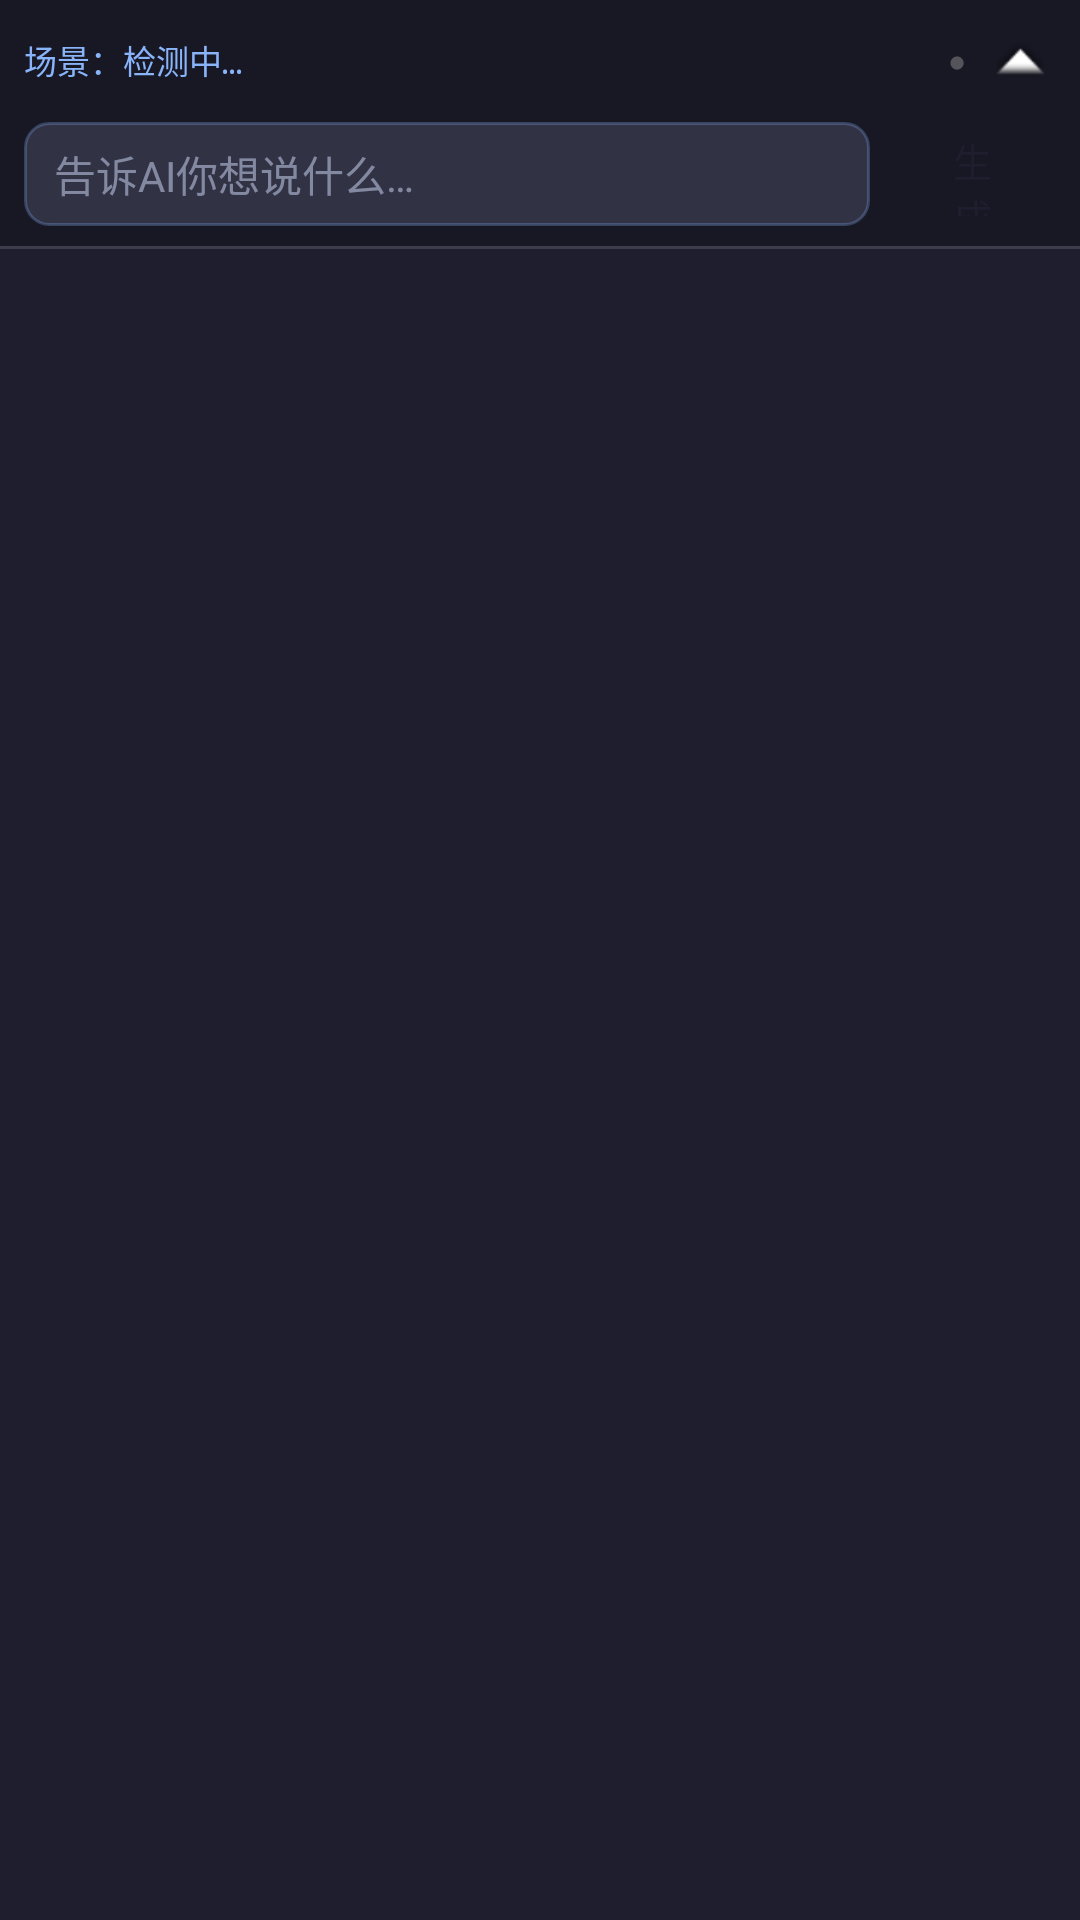

Where icons sit on this 1080*1920 app screen, as (x1, y1, x2, y2):
切换AI面板: (998, 49, 1043, 74)
